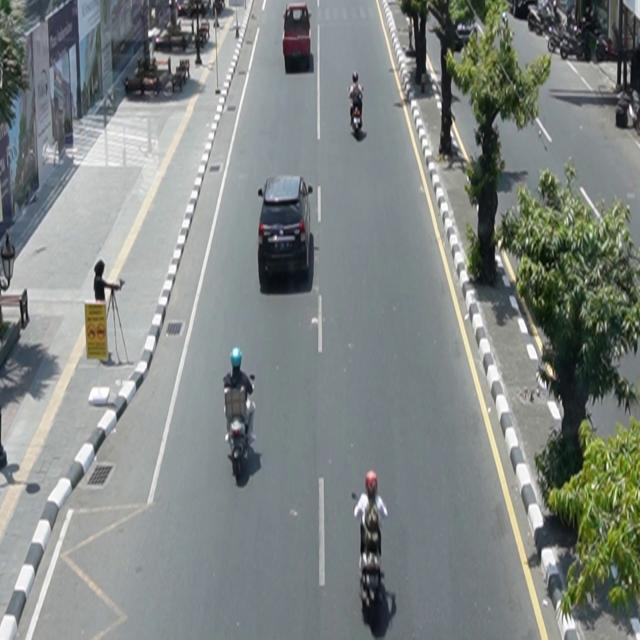car: (258, 175, 314, 287), (284, 3, 313, 73)
